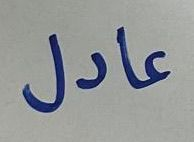ain: (142, 48, 177, 88)
alef: (114, 21, 140, 92)
dal: (74, 49, 109, 94)
lam: (20, 29, 68, 115)
